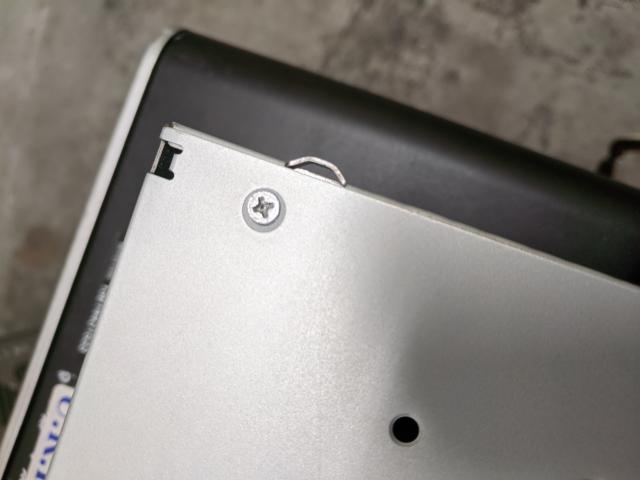CRS: (246, 186, 281, 226)
